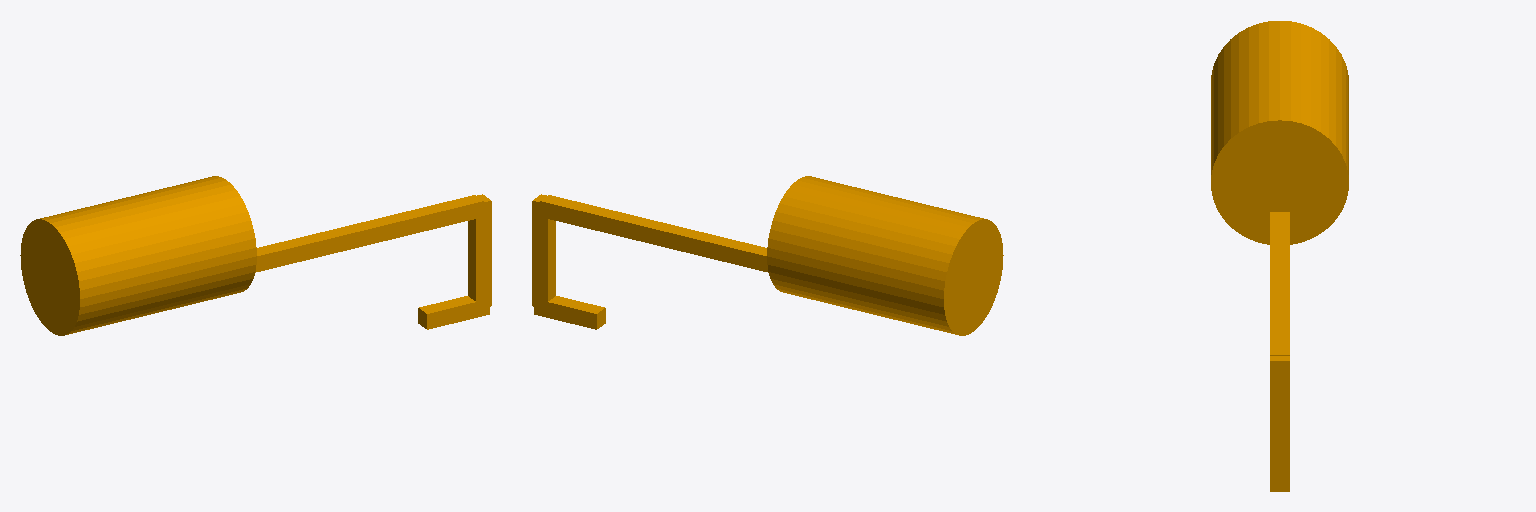
The robot description file, URDF, robot "hook_v0":
<?xml version='1.0' encoding='utf-8'?>
<robot name="hook_v0">
  <link name="body">
    <inertial>
      <origin xyz="0.012684793680733185 0.0 -0.0028005388645774587" />
      <mass value="0.16" />
      <inertia ixx="0.0001526654549424031" iyy="0.0007622985193198031" izz="0.0007352271291423528" ixy="-2.871155517263684e-21" ixz="9.465228765860568e-05" iyz="-1.2785614412814843e-21" />
    </inertial>
    <collision>
      <geometry>
        <mesh filename="part_00.obj" />
      </geometry>
    </collision>
    <collision>
      <geometry>
        <mesh filename="part_01.obj" />
      </geometry>
    </collision>
    <collision>
      <geometry>
        <mesh filename="part_02.obj" />
      </geometry>
    </collision>
    <collision>
      <geometry>
        <mesh filename="part_03.obj" />
      </geometry>
    </collision>
    <visual>
      <geometry>
        <mesh filename="visual.obj" />
      </geometry>
    </visual>
  </link>
</robot>

--- Facts derived from the render (not from the file) ---
Views: 3 orthographic renders of the robot side by side, from view 1: azimuth 30°, elevation 25°; view 2: azimuth 150°, elevation 25°; view 3: azimuth 270°, elevation 25°.
Model hook_v0 with 1 links and 0 joints (none), rooted at body, posed every joint at zero.
Links seen in each view (by area): view 1: body; view 2: body; view 3: body.
Boxes of the visible links, x1,y1,x2,y2 form: body: [20, 176, 491, 335]; body: [532, 176, 1003, 335]; body: [1211, 21, 1348, 491].
Bounding box of the posed robot: 0.346 × 0.082 × 0.147 m (x, y, z).
Meshes: 1 distinct files referenced, 1 mesh visuals loaded (1 OBJ).
